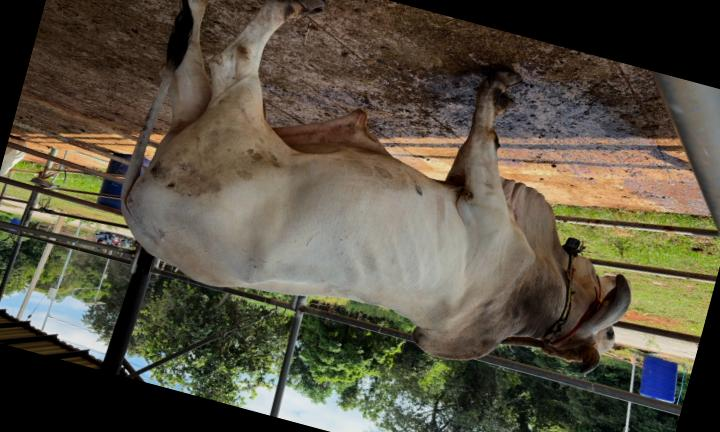Brahman: (121, 0, 630, 372)
